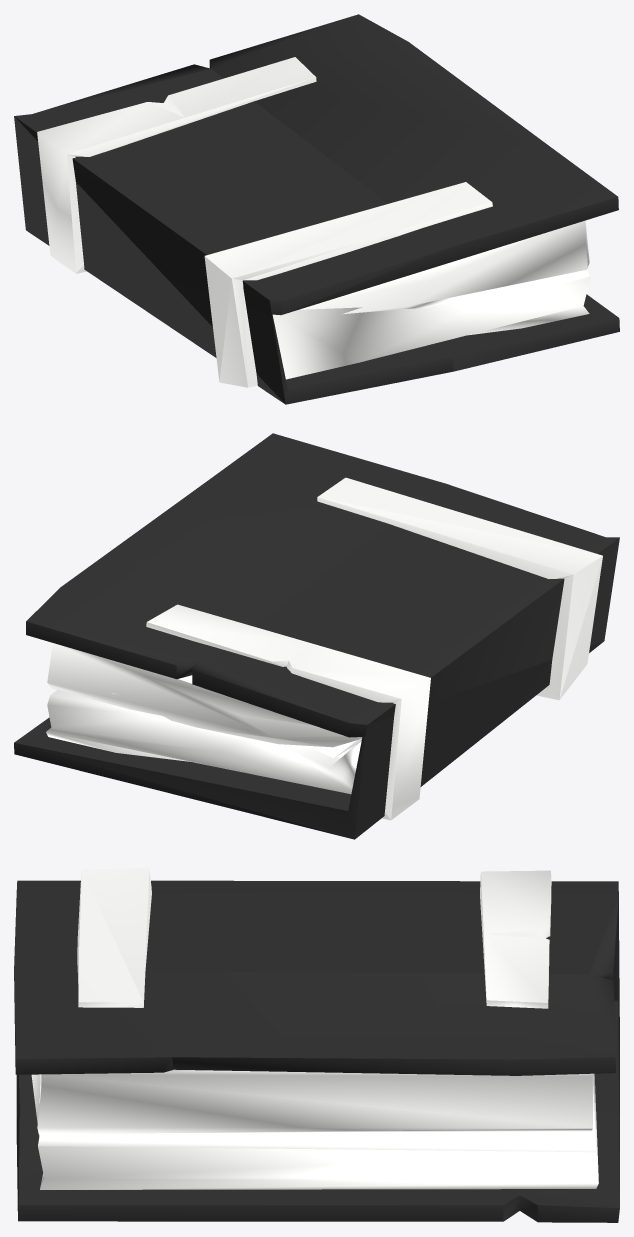
File: CyberPunkGuestBookClosed.009.glb
3 renders of one model, top to bottom at view 1: azimuth 30°, elevation 25°; view 2: azimuth 150°, elevation 25°; view 3: azimuth 270°, elevation 25°, orthographic. The views are drawn at different scales.
Parts seen in each view (by area): view 1: CyberPunkGuestBookClosed.009; view 2: CyberPunkGuestBookClosed.009; view 3: CyberPunkGuestBookClosed.009.
Part boxes in pixels (x1,y1,x2,y2): CyberPunkGuestBookClosed.009: (14, 14, 619, 404); CyberPunkGuestBookClosed.009: (14, 433, 619, 839); CyberPunkGuestBookClosed.009: (14, 868, 619, 1222).
Size of what is drawn, in the model's own units: 0.2654 by 0.1053 by 0.3243.
2 materials, 2 textured.
